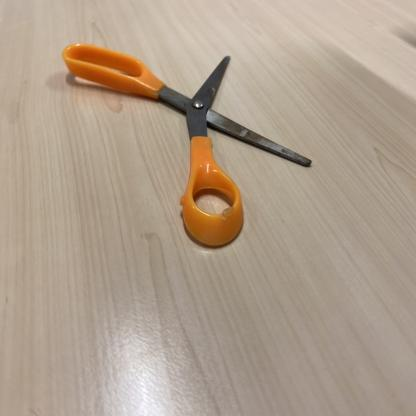scissors: (65, 41, 314, 251)
